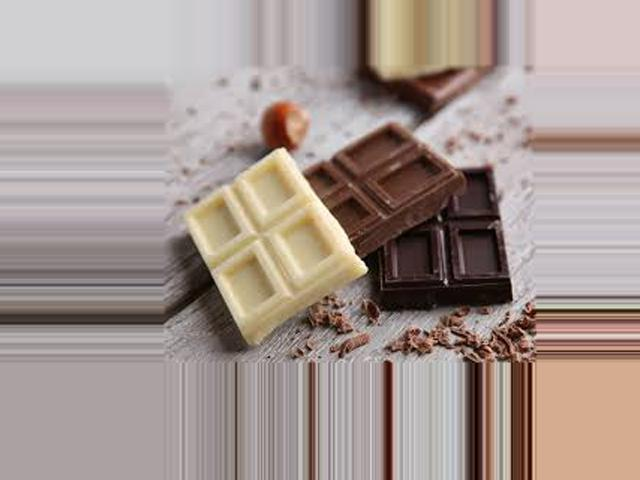chocolate: (183, 121, 526, 325)
